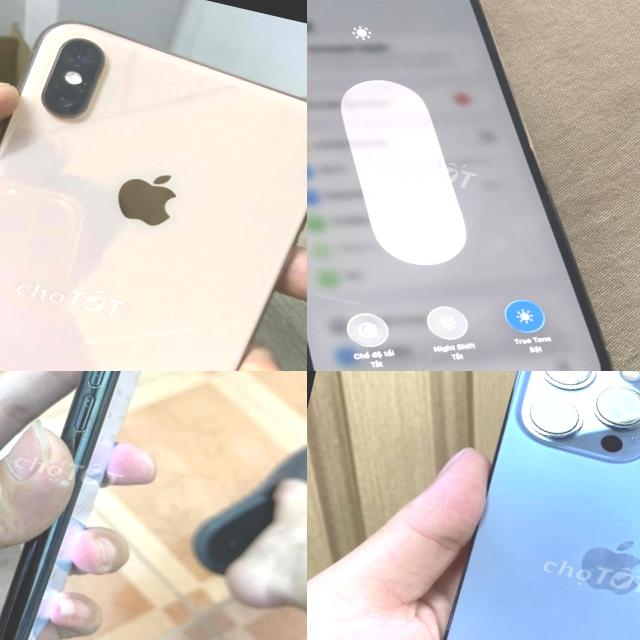scratch: (53, 371, 149, 468)
